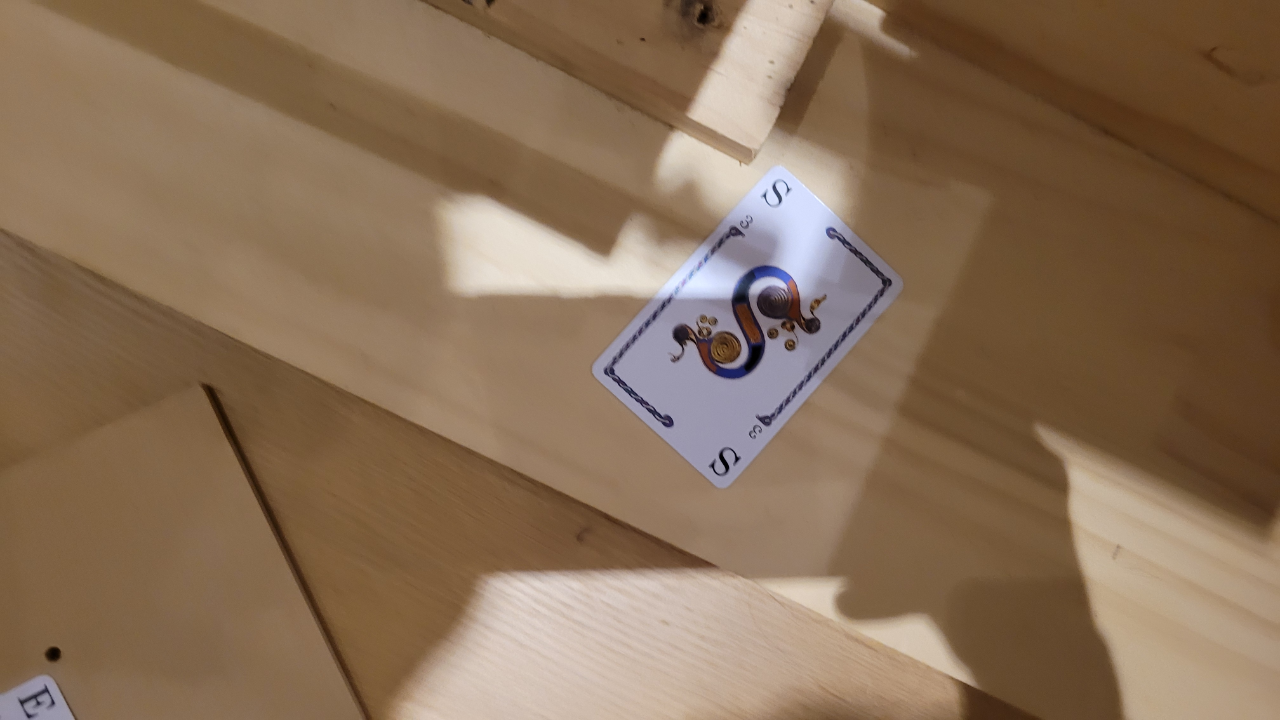quiddler_card: (573, 151, 913, 501)
